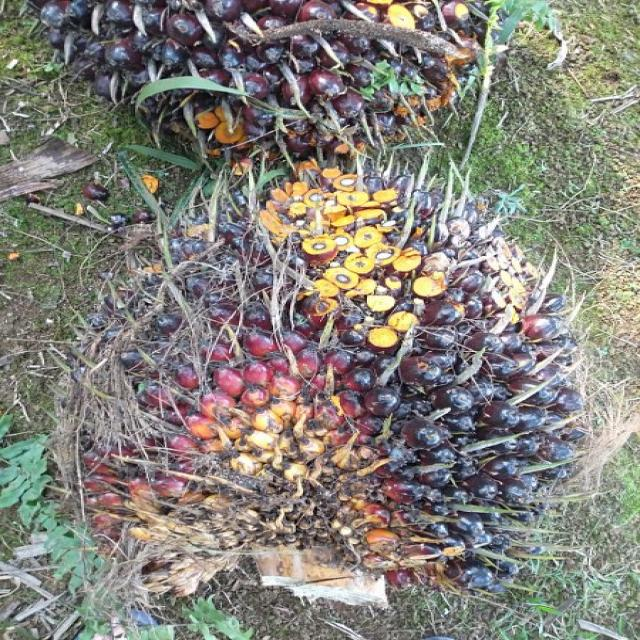fraksi 00: (43, 156, 608, 607)
